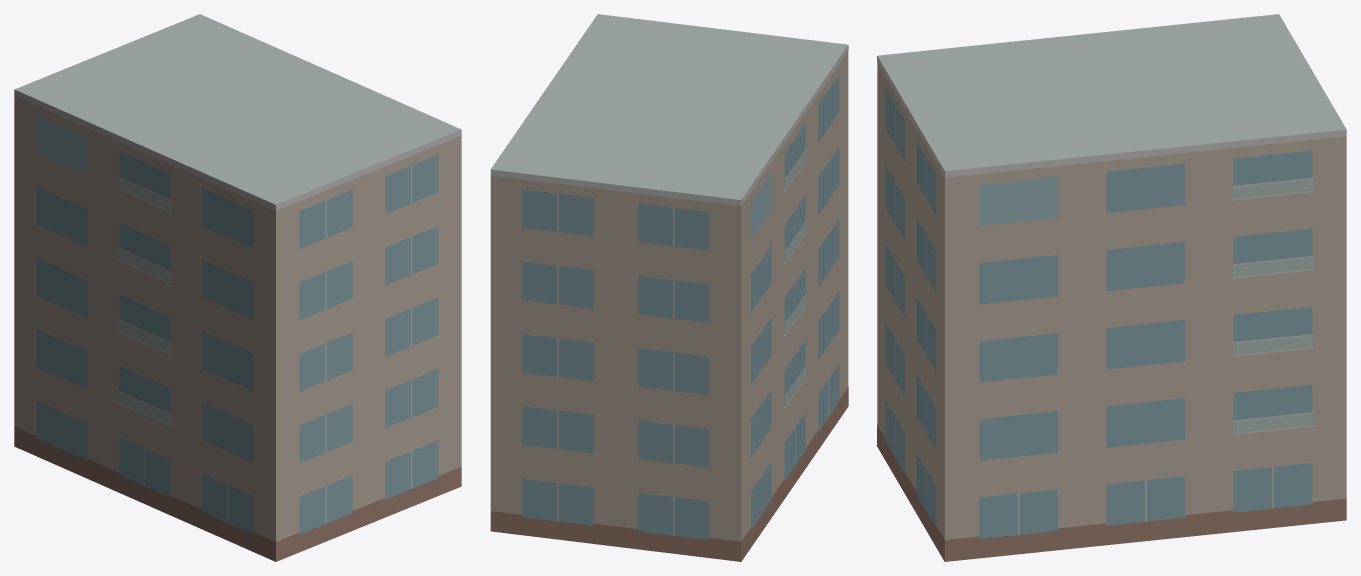
File: survey-upis-32792438.glb
3 views of the same model, side by side, from view 1: azimuth 30°, elevation 25°; view 2: azimuth 150°, elevation 25°; view 3: azimuth 270°, elevation 25° (orthographic). The views are drawn at different scales.
Visible parts, largest first — view 1: survey-upis-32792438.tmp; view 2: survey-upis-32792438.tmp; view 3: survey-upis-32792438.tmp.
Part boxes in pixels (x1,y1,x2,y2): survey-upis-32792438.tmp: [14, 14, 461, 561]; survey-upis-32792438.tmp: [490, 14, 848, 561]; survey-upis-32792438.tmp: [877, 14, 1346, 561].
Size of the model in its own units: 12.36 by 14.31 by 15.6.
